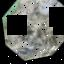Purslane: (0, 0, 52, 58)
